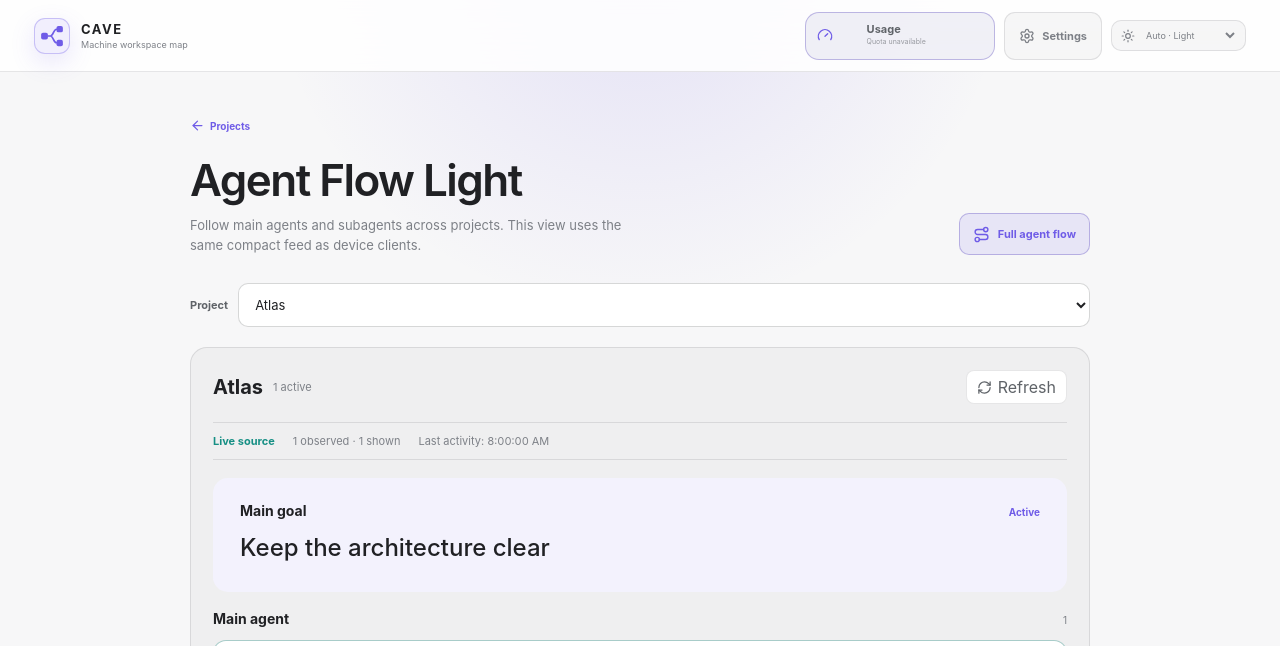
Test: AgentFlowLightPage › clears a shared goal when the selected project changes or the feed fails
Check: the text "Keep the architecture clear" is shown, box [240,533,550,562]
Select "CAVE" in the dropdown labelled "Project" at (664,305), box [238,283,1090,327]
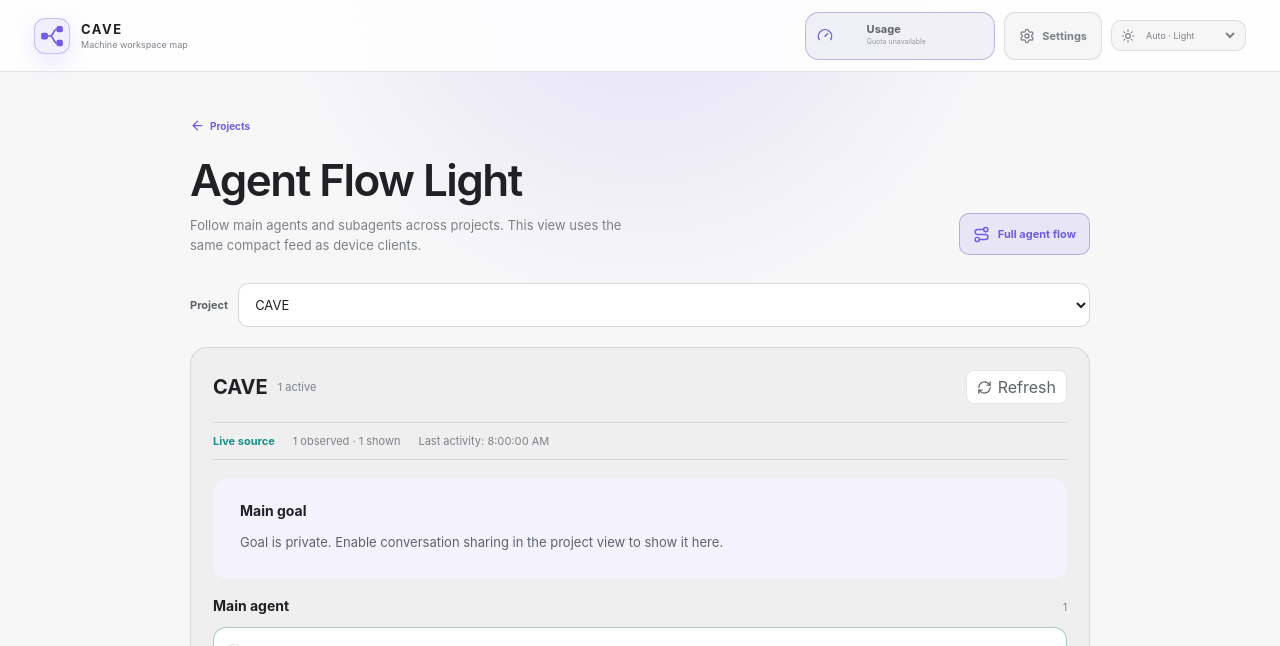
Check: the text "Keep the architecture clear" is gone
Check: the text "Goal is private" is shown, box [240,534,723,550]
Click the button "Refresh".
click(1016, 387)  # box [966,370,1067,404]
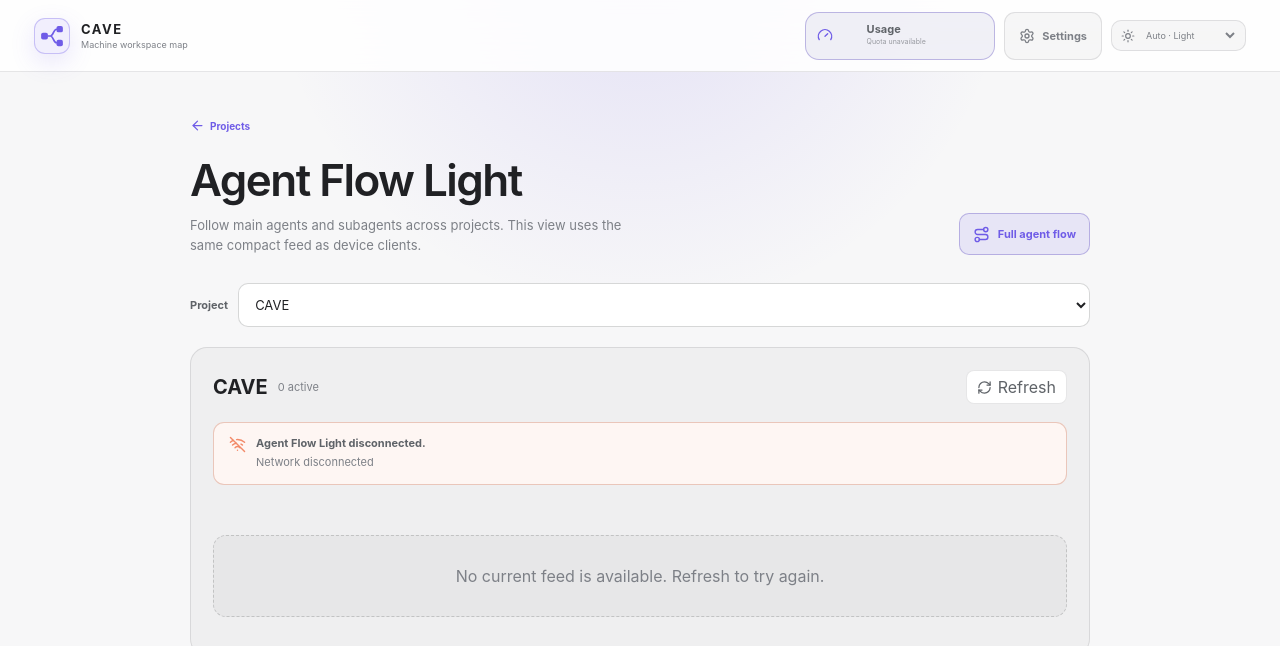
Check: the message "Agent Flow Light disconnected. Network disconnected" is shown, box [213,422,1067,485]
